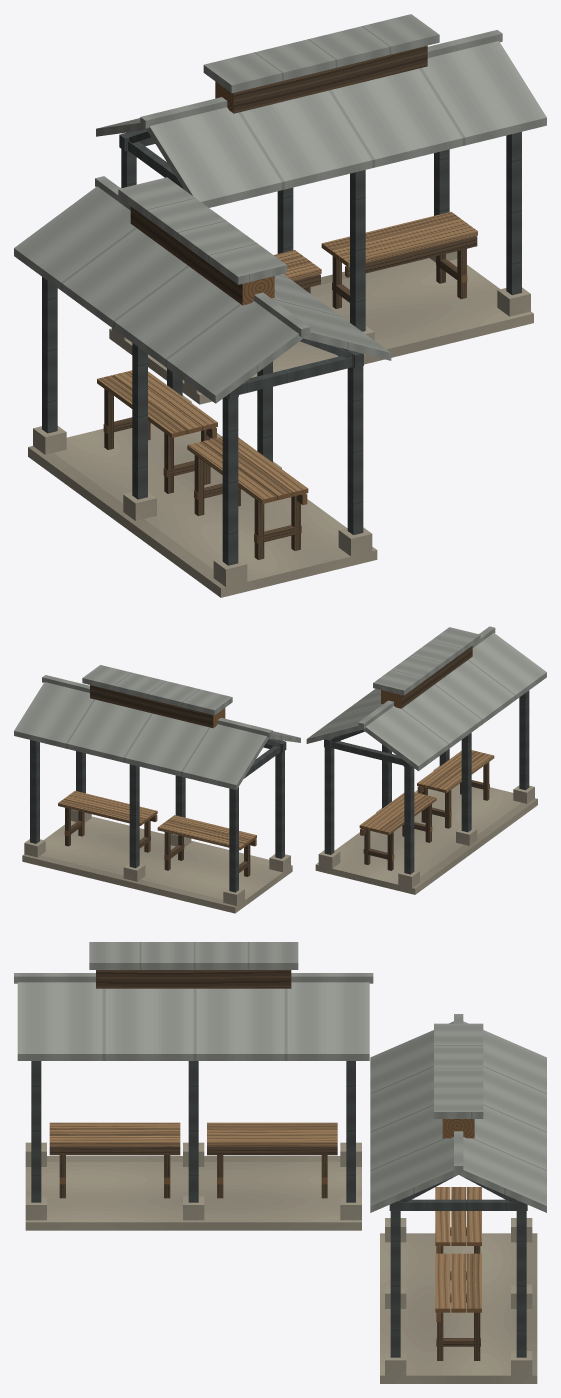
The picture shows the model from 3 angles, top to bottom: view 1: azimuth 30°, elevation 25°; view 2: azimuth 150°, elevation 25°; view 3: azimuth 270°, elevation 25°; orthographic projection. The views are drawn at different scales.
Visible parts, largest first — view 1: pyongyang; view 2: pyongyang; view 3: pyongyang.
Part boxes in pixels (x1=…): pyongyang: x1=14, y1=14, x2=546, y2=597; pyongyang: x1=14, y1=626, x2=546, y2=913; pyongyang: x1=14, y1=942, x2=546, y2=1383.
Size of the model in its own units: 5 by 2.5 by 4.93.
Materials: 1 (1 with a texture image).
